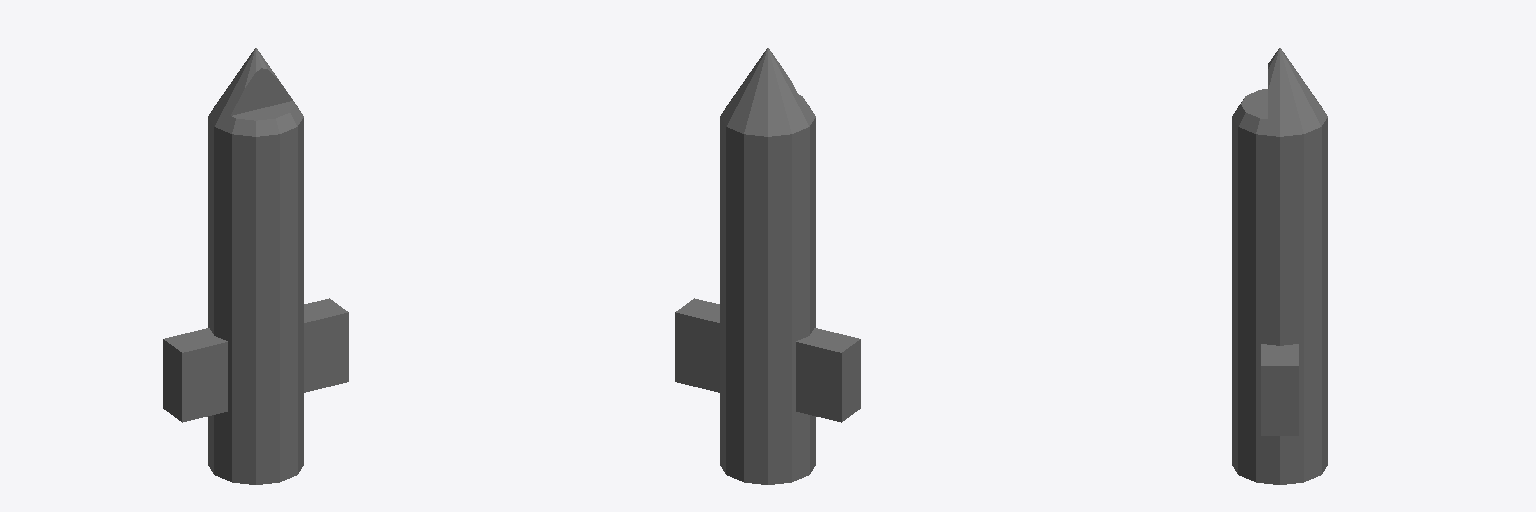
File: ship1.obj
The picture shows the model from 3 angles: view 1: azimuth 30°, elevation 25°; view 2: azimuth 150°, elevation 25°; view 3: azimuth 270°, elevation 25°; orthographic projection.
Parts seen in each view (by area): view 1: g2_collision; view 2: g2_collision; view 3: g2_collision.
Boxes of the visible parts, box(x1,y1,x2,y2) form: g2_collision: box(163, 48, 348, 484); g2_collision: box(675, 48, 860, 484); g2_collision: box(1232, 48, 1327, 484).
Size of the model in its own units: 10 by 24 by 5.